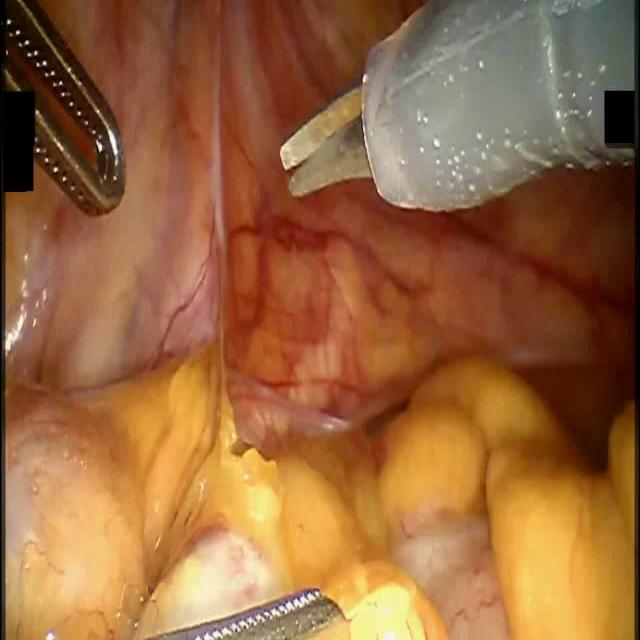surgical-area: (0, 0, 637, 639)
surgical-tool: (278, 0, 637, 212), (148, 582, 348, 639)
